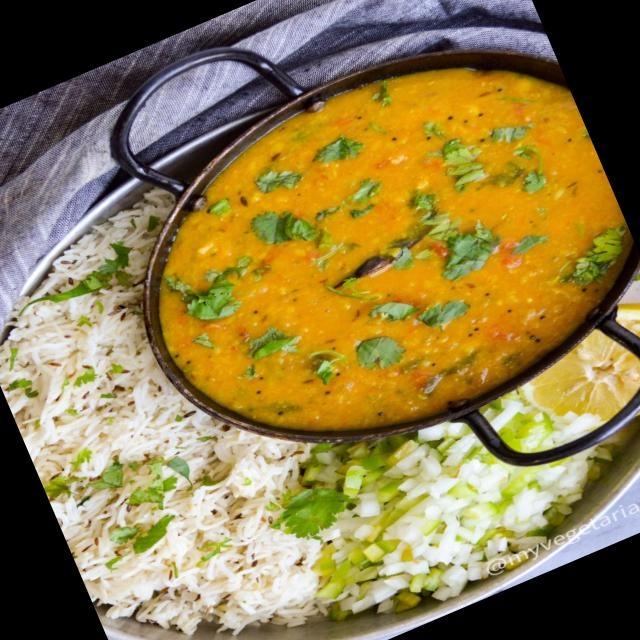dal: (102, 8, 640, 500)
rice: (0, 178, 358, 614)
